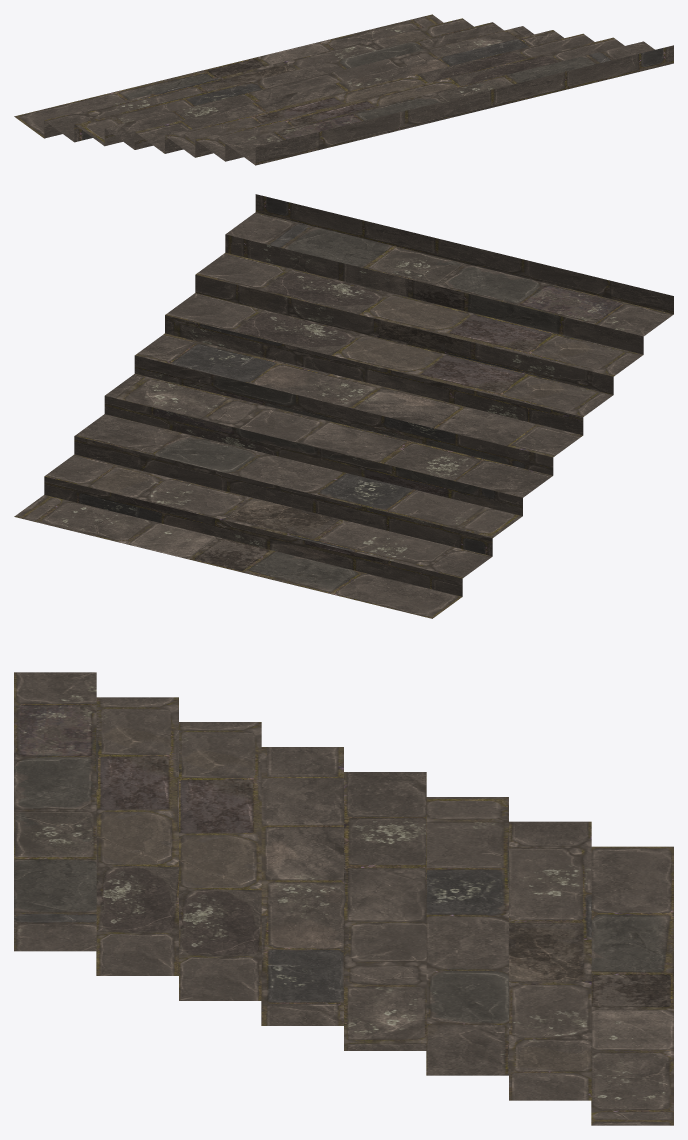
The model's file is SM_Stairs.fbx.
3 renders of one model, top to bottom at view 1: azimuth 30°, elevation 25°; view 2: azimuth 150°, elevation 25°; view 3: azimuth 270°, elevation 25°, orthographic. The views are drawn at different scales.
Parts seen in each view (by area): view 1: Stairs; view 2: Stairs; view 3: Stairs.
Part boxes in pixels (<box>): Stairs: <box>14,14,673,165</box>; Stairs: <box>14,194,673,618</box>; Stairs: <box>14,672,673,1125</box>.
Size of the model in its own units: 300 by 100 by 300.
1 material, 1 textured.
